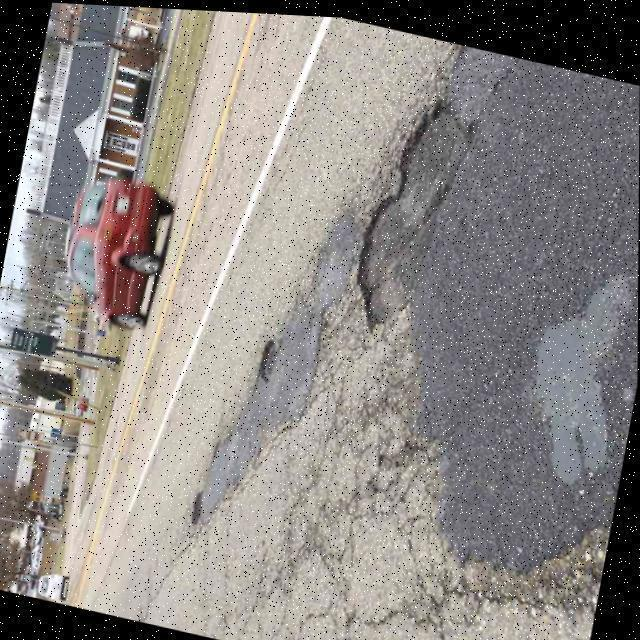Pothole: (358, 40, 516, 320), (524, 262, 638, 493), (252, 336, 284, 386), (188, 489, 206, 528)
